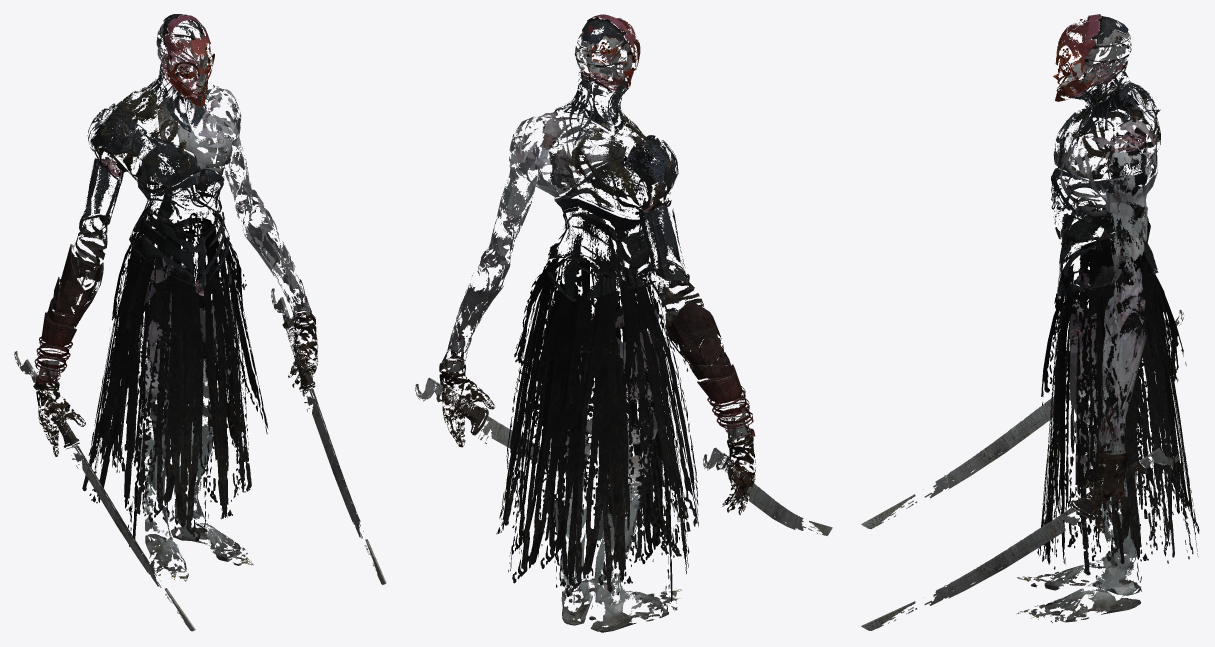
The model's file is d_runner.obj.
3 renders of one model, left to right at view 1: azimuth 30°, elevation 25°; view 2: azimuth 150°, elevation 25°; view 3: azimuth 270°, elevation 25°, orthographic. The views are drawn at different scales.
Visible parts, largest first — view 1: rdmobj02, rdmobj01, rdmobj00; view 2: rdmobj02, rdmobj01, rdmobj00; view 3: rdmobj02, rdmobj01, rdmobj00.
Boxes of the visible parts, x1=… form: rdmobj02: x1=82, y1=212, x2=268, y2=546; rdmobj01: x1=14, y1=14, x2=386, y2=631; rdmobj00: x1=38, y1=50, x2=313, y2=581; rdmobj02: x1=496, y1=255, x2=698, y2=608; rdmobj01: x1=415, y1=14, x2=832, y2=535; rdmobj00: x1=441, y1=70, x2=750, y2=632; rdmobj02: x1=1037, y1=233, x2=1199, y2=577; rdmobj01: x1=861, y1=14, x2=1184, y2=630; rdmobj00: x1=1017, y1=59, x2=1157, y2=622.
Bounding box in the file's own units: 0.9662 × 1.78 × 0.9368.
Materials: 3 (3 with a texture image).
